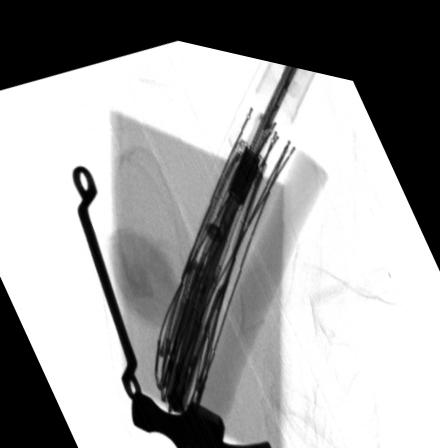Hammer: (131, 131, 328, 448)
Wrench: (73, 162, 142, 394)
